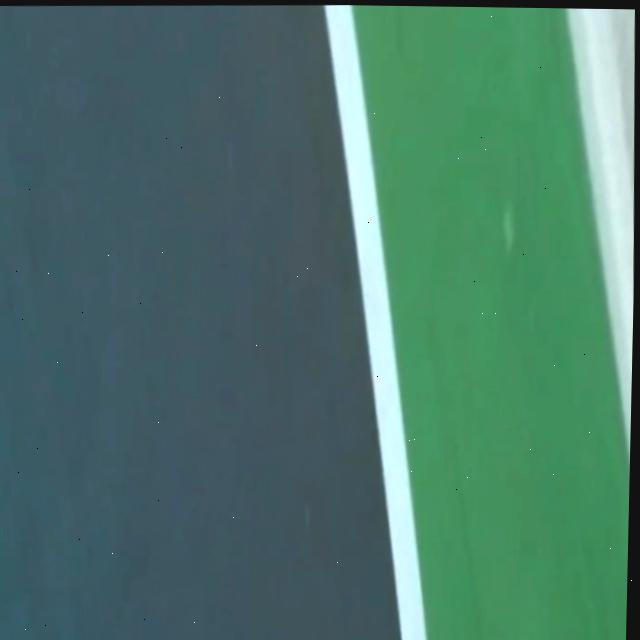right: (323, 5, 425, 640)
